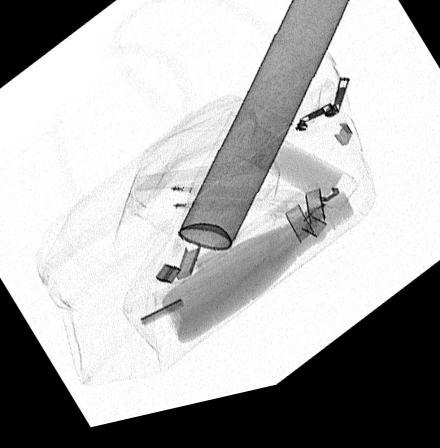Sprayer: (176, 0, 354, 260)
